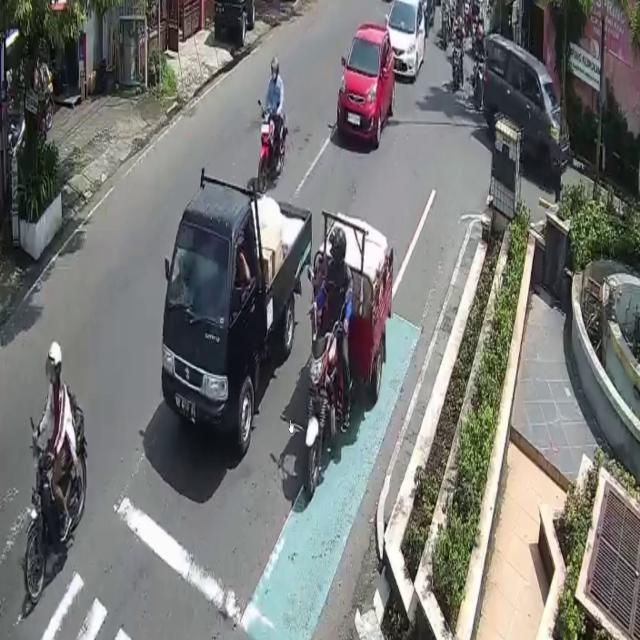bus: (20, 405, 90, 606), (302, 331, 353, 495), (258, 102, 285, 192)
motorcycle: (161, 180, 312, 454), (485, 28, 570, 180), (337, 23, 394, 143), (386, 1, 426, 76)
